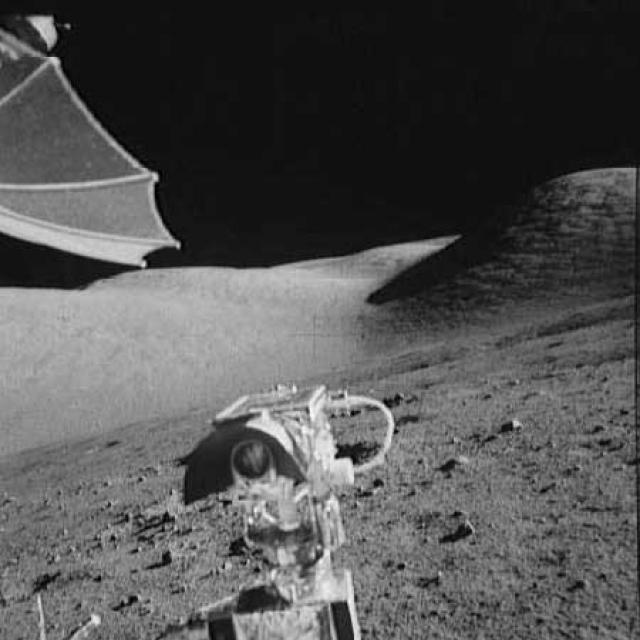artifact: (166, 366, 420, 638), (0, 6, 194, 276)
rock: (446, 498, 478, 539), (492, 407, 527, 440), (438, 449, 477, 477)
